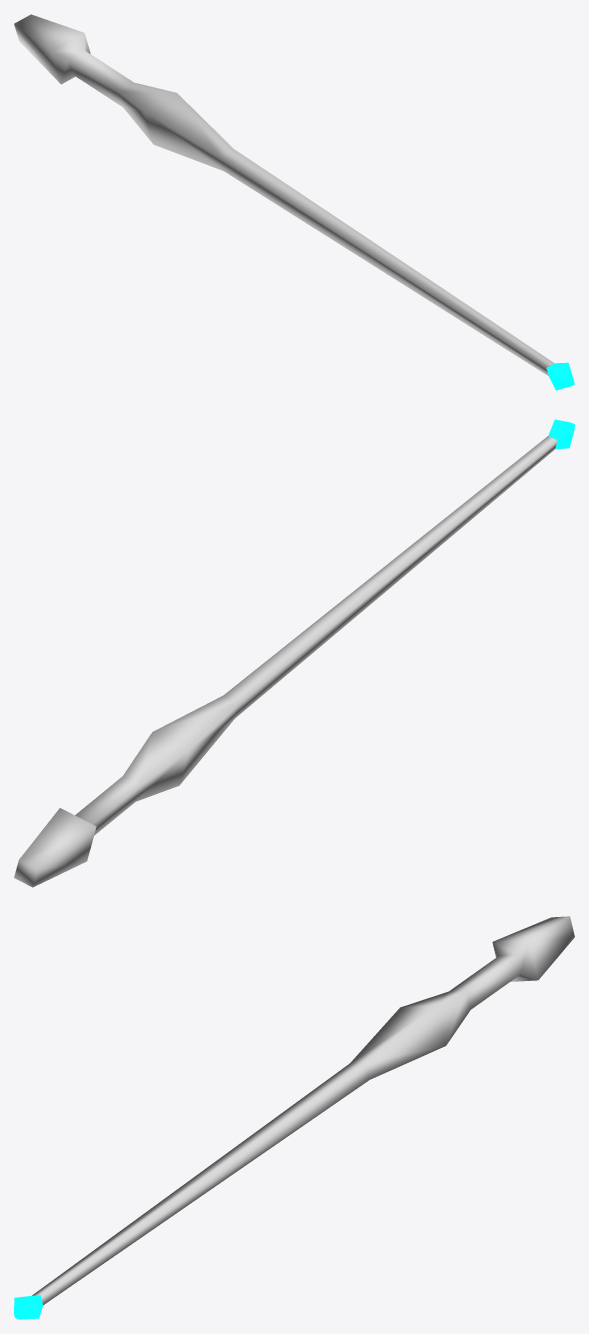
Rendered from wand.fbx.
The picture shows the model from 3 angles, top to bottom: view 1: azimuth 30°, elevation 25°; view 2: azimuth 150°, elevation 25°; view 3: azimuth 330°, elevation 25°; orthographic projection. The views are drawn at different scales.
Parts seen in each view (by area): view 1: Cylinder; view 2: Cylinder; view 3: Cylinder.
Boxes of the visible parts, x1,y1,x2,y2 form: Cylinder: [14, 14, 574, 390]; Cylinder: [14, 419, 574, 887]; Cylinder: [14, 916, 574, 1319].
Bounding box in the file's own units: 0.0372 × 0.0437 × 0.702.
